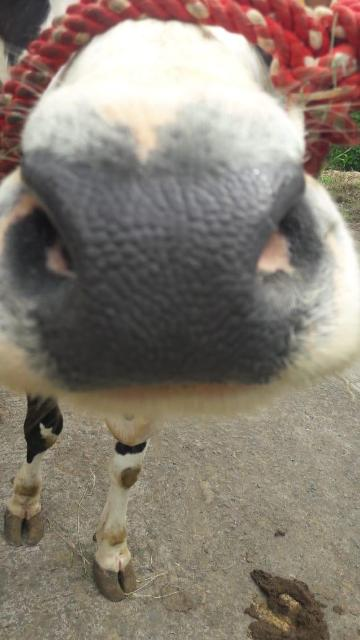Muzzle: (11, 145, 314, 389)
